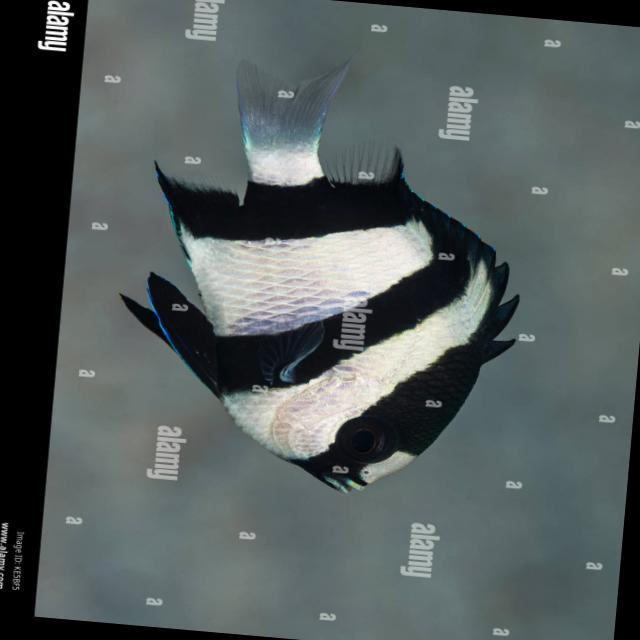ThreeStripedDamselfish: (102, 26, 546, 510)
